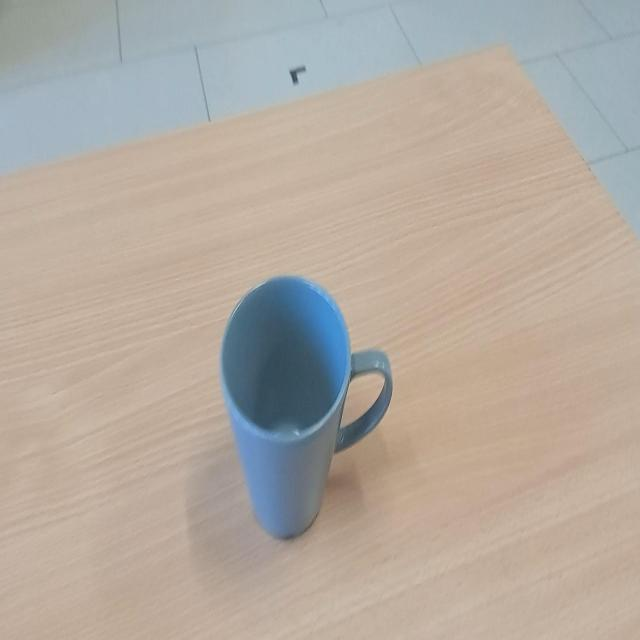cup: (217, 270, 396, 545)
